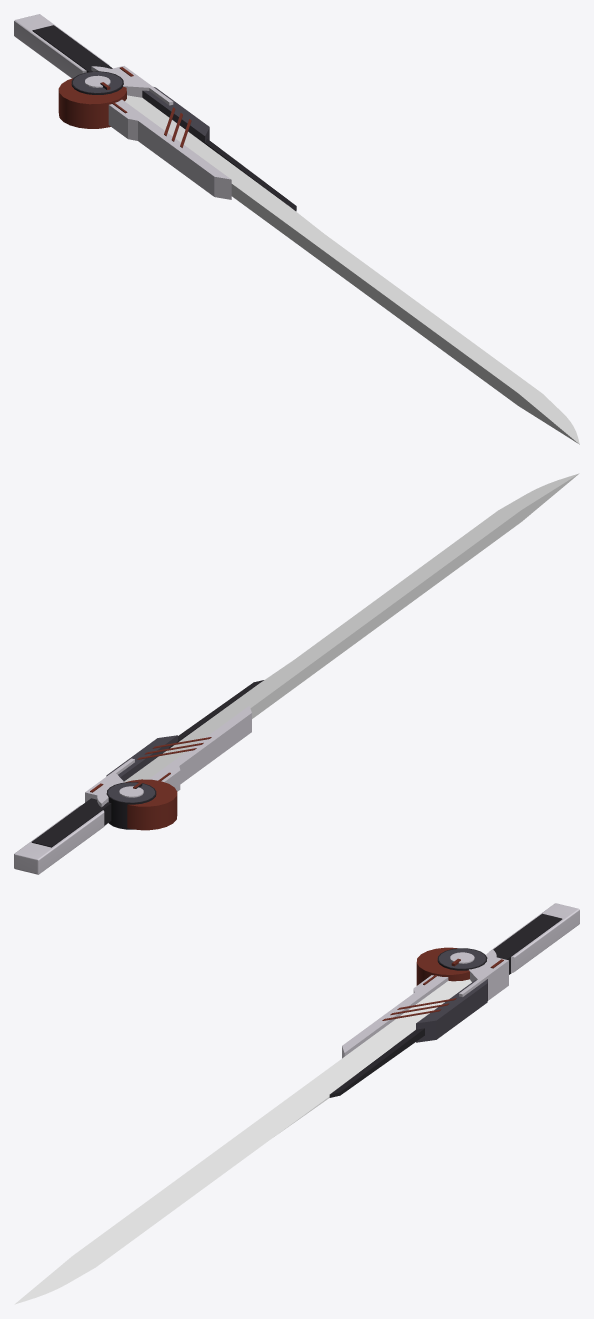
The picture shows the model from 3 angles, top to bottom: view 1: azimuth 30°, elevation 25°; view 2: azimuth 150°, elevation 25°; view 3: azimuth 330°, elevation 25°; orthographic projection. The views are drawn at different scales.
Parts seen in each view (by area): view 1: pCube16; view 2: pCube16; view 3: pCube16.
Part boxes in pixels (x1,y1,x2,y2): pCube16: (14,14,579,444); pCube16: (14,473,579,874); pCube16: (14,903,579,1304).
Size of the model in its own units: 1.32 by 0.5128 by 15.98.
